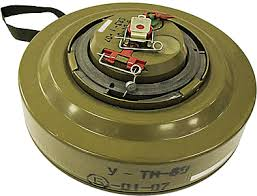car: (1, 0, 257, 196)
